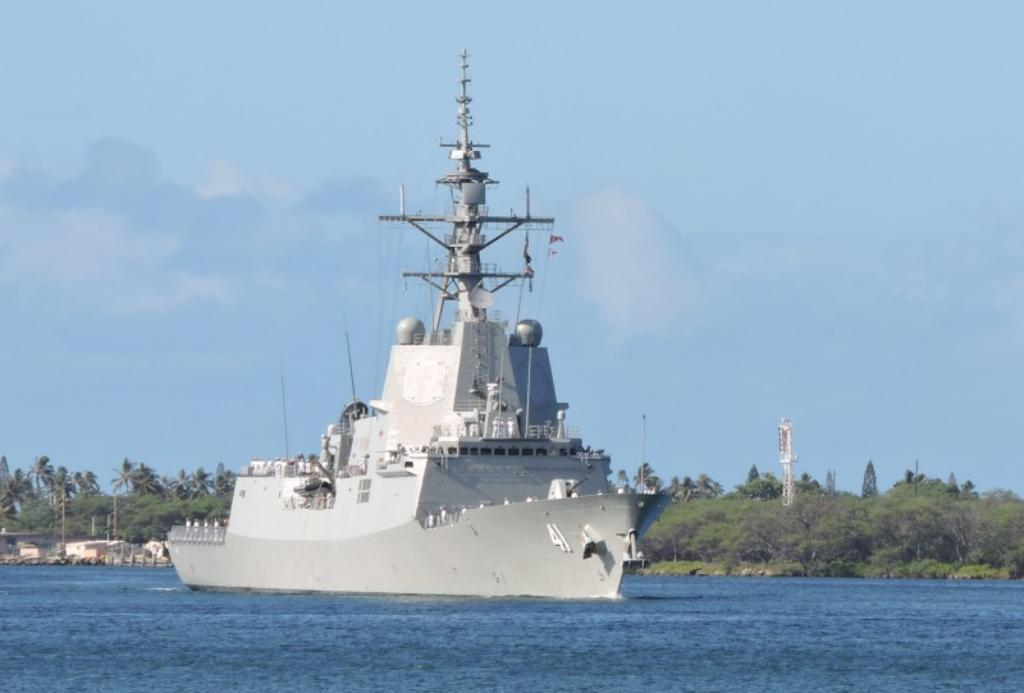Warship: (162, 41, 678, 607)
